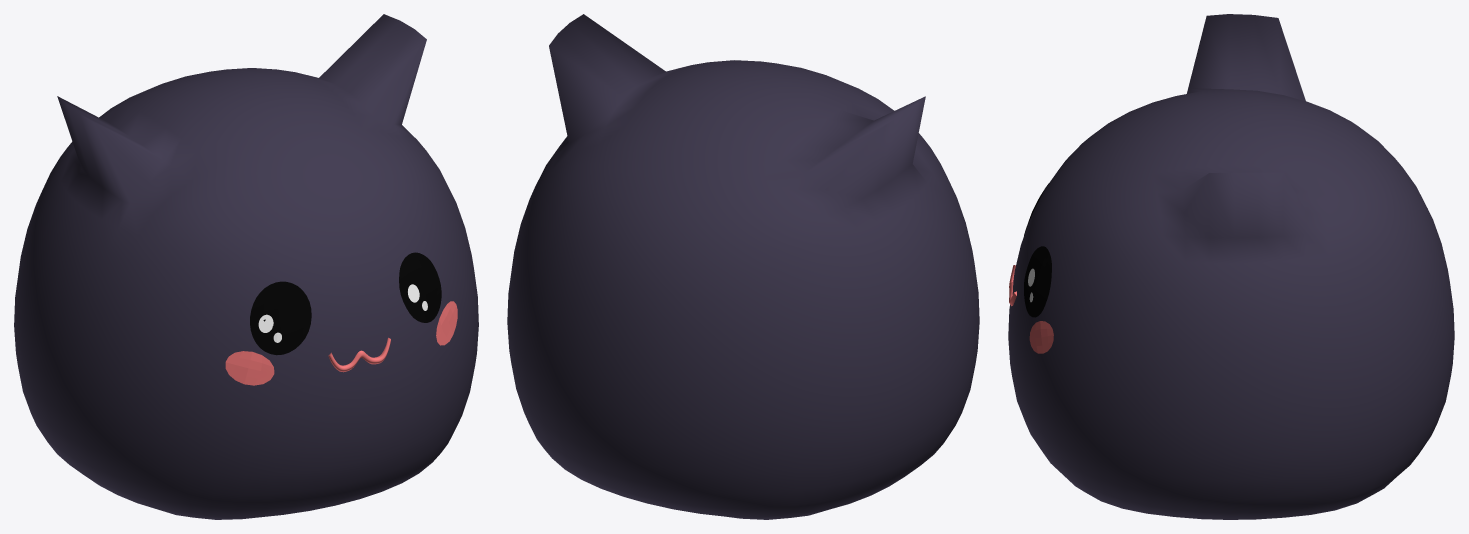
Rendered from slime7.fbx.
The picture shows the model from 3 angles, left to right: view 1: azimuth 30°, elevation 25°; view 2: azimuth 150°, elevation 25°; view 3: azimuth 270°, elevation 25°; orthographic projection. The views are drawn at different scales.
Parts seen in each view (by area): view 1: Cube.007, Plane.033, Plane.034, Plane.035, Plane.036, NurbsPath.004; view 2: Cube.007; view 3: Cube.007, Plane.034, Plane.036.
Boxes of the visible parts, box(x1,y1,x2,y2) form: Cube.007: box(14, 14, 478, 519); Plane.033: box(250, 281, 311, 355); Plane.034: box(399, 252, 441, 322); Plane.035: box(225, 351, 274, 385); Plane.036: box(436, 301, 457, 345); NurbsPath.004: box(328, 337, 390, 372); Cube.007: box(507, 14, 979, 519); Cube.007: box(1008, 14, 1454, 519); Plane.034: box(1024, 246, 1051, 317); Plane.036: box(1029, 321, 1053, 353).
Size of the model in its own units: 327 by 296 by 327.
